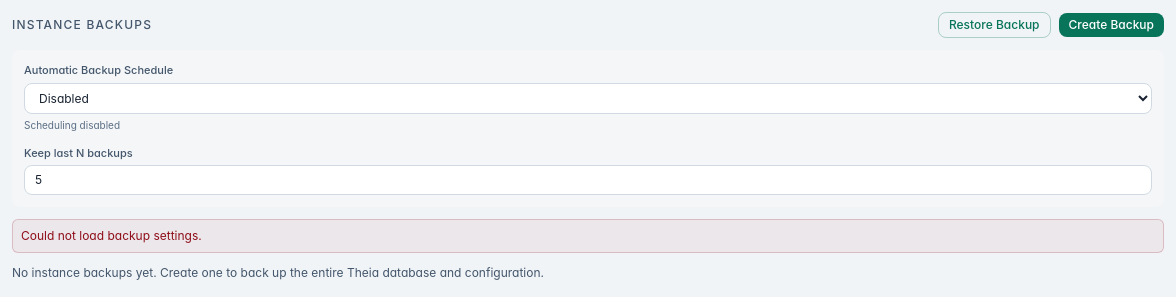
it: InstanceBackupManager — independent initial loads › clears a settings error after a successful settings save
The image size is (1176, 297).
Check: the text "Could not load backup settings." is shown, box [21,228,202,243]
Select "Every 24 hours" in the dropdown showing "Disabled": (588, 98) [24,82,1152,114]
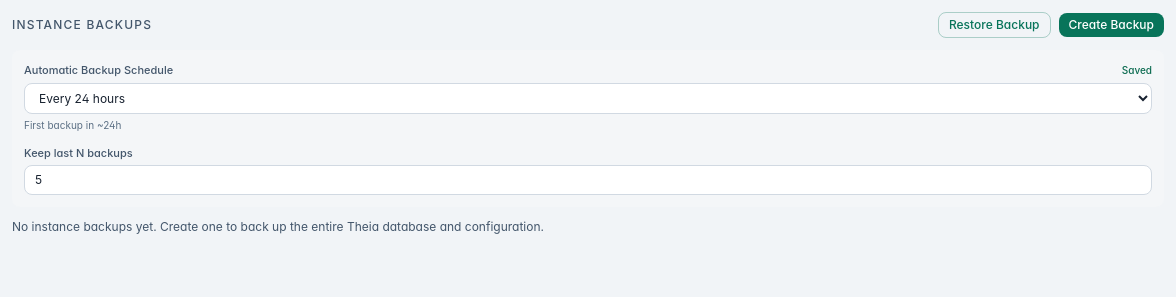
Check: the text "Could not load backup settings." is gone
